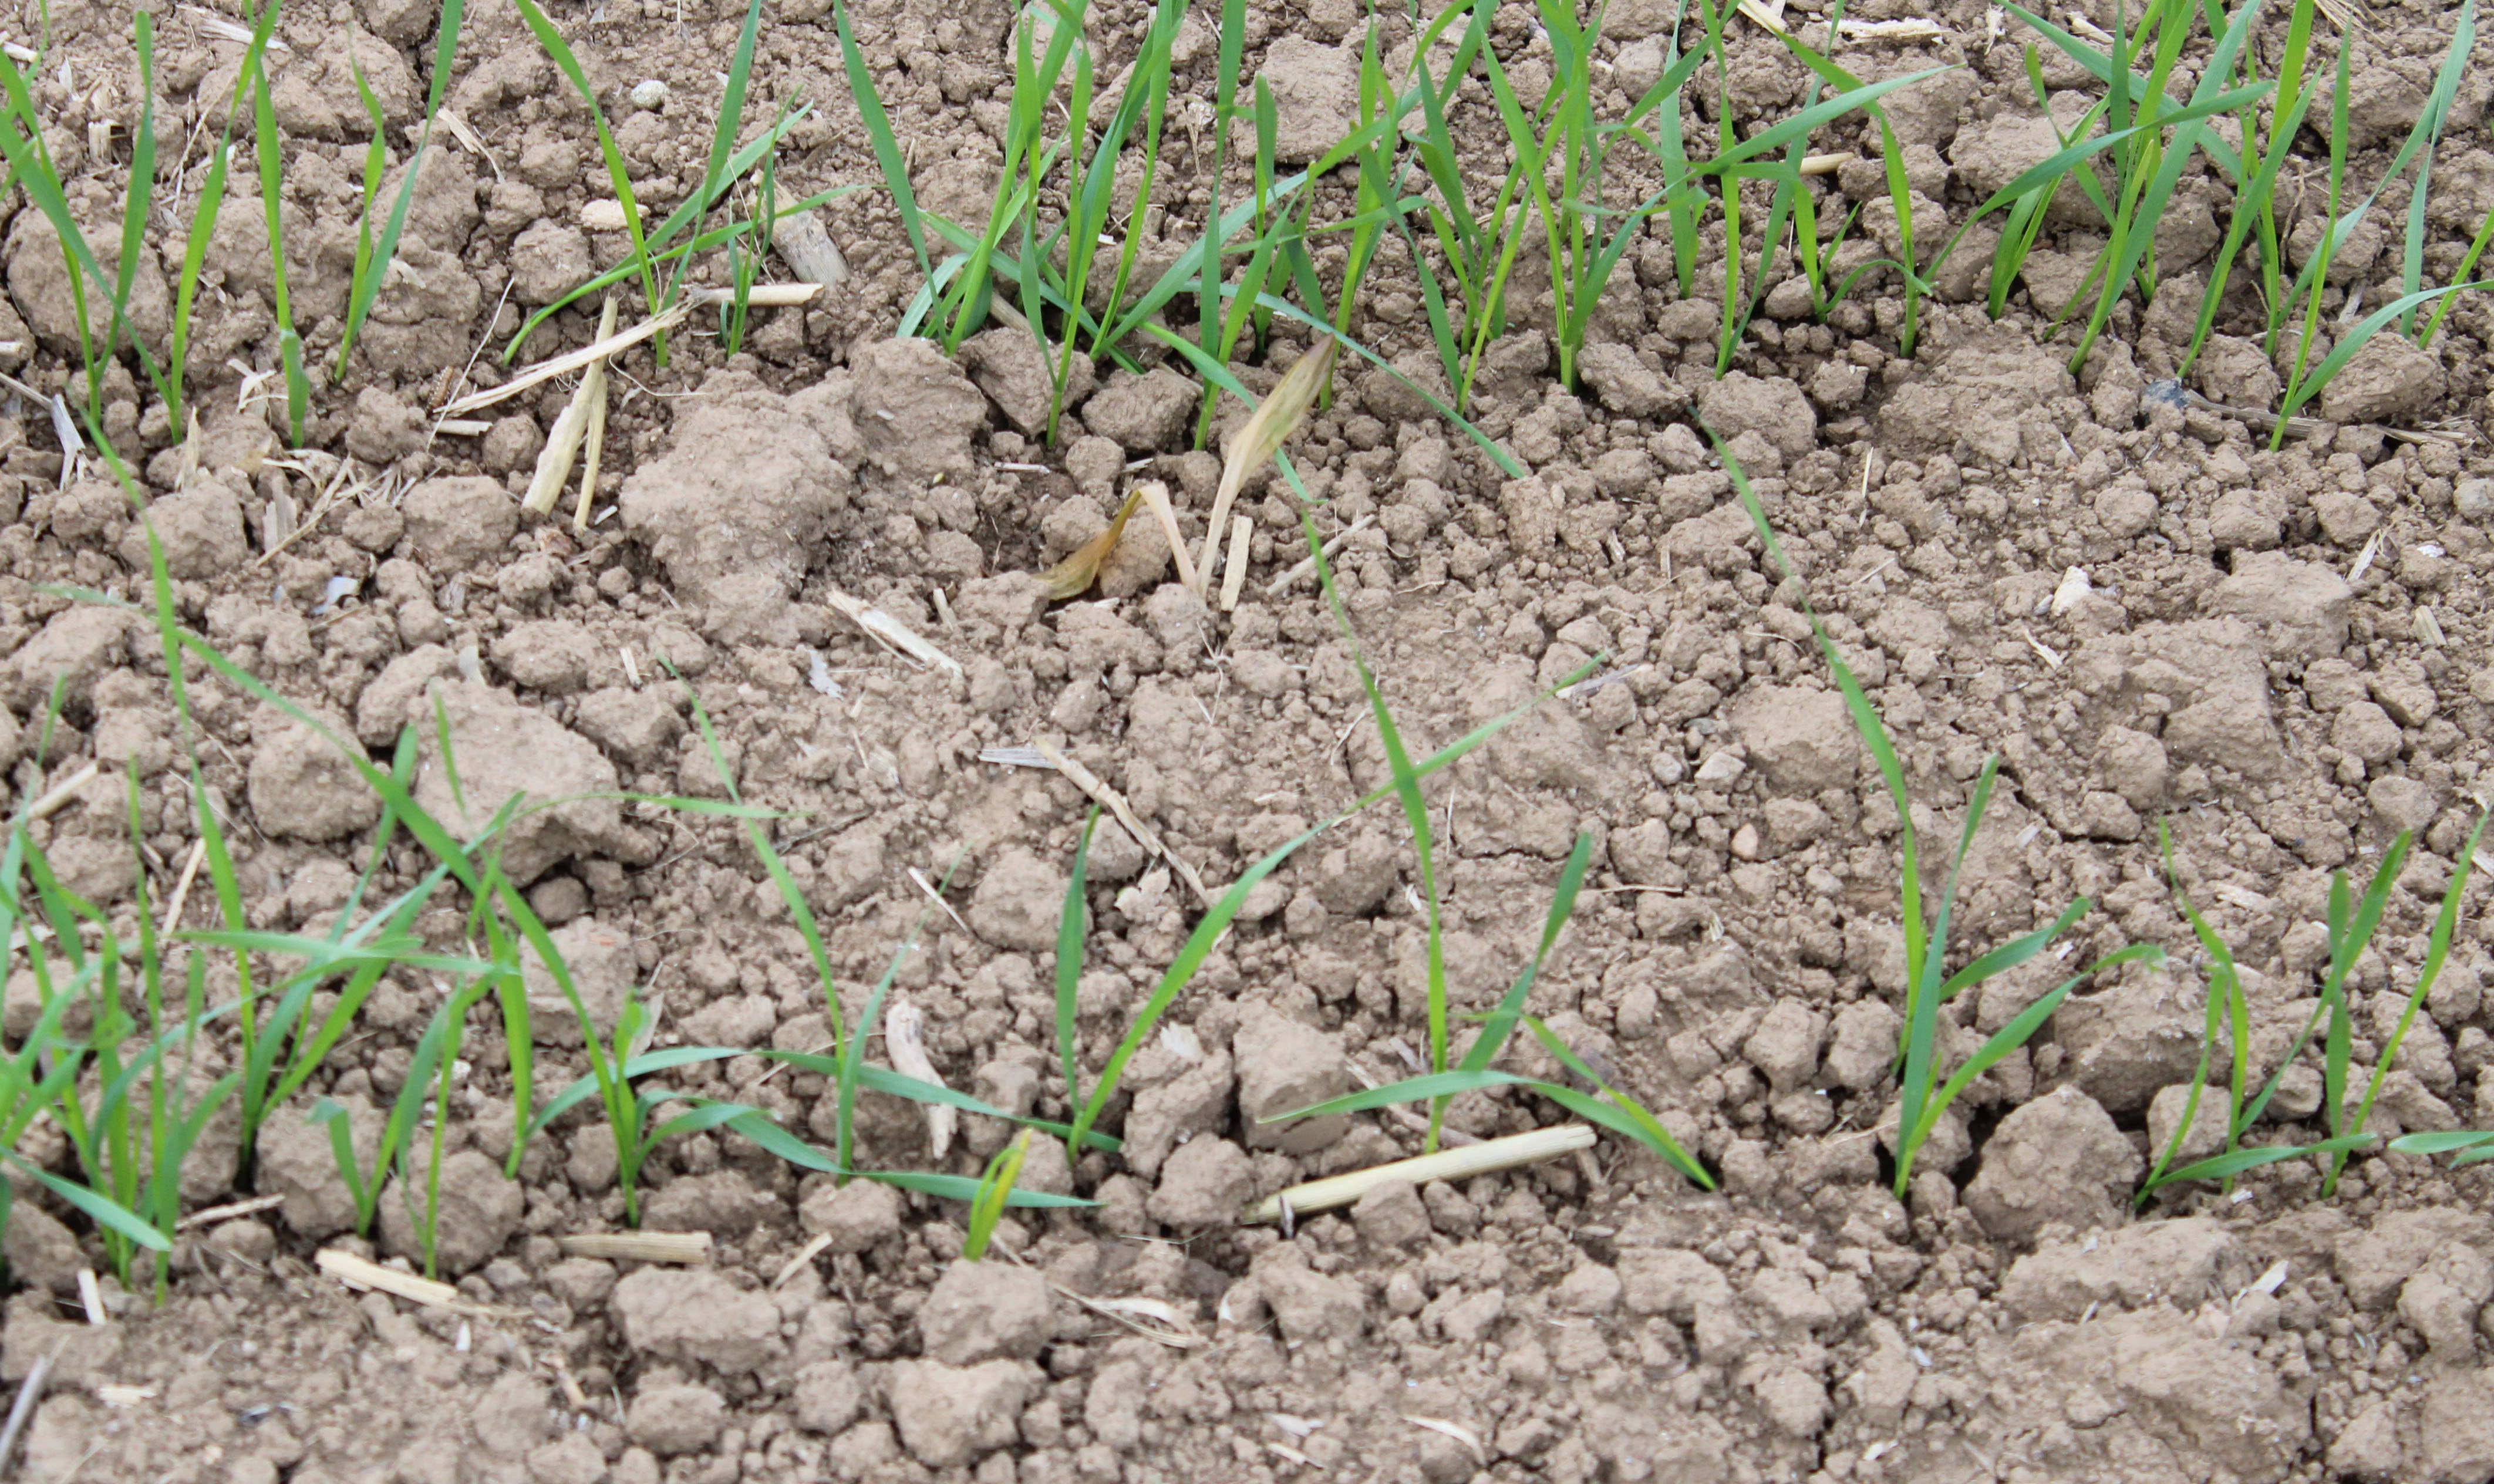wheat: (2125, 1064, 2194, 1223), (1885, 1074, 1954, 1226), (1639, 1095, 1740, 1194), (493, 1028, 553, 1192), (145, 293, 207, 443), (329, 1101, 390, 1249), (263, 297, 320, 450), (601, 1113, 655, 1235), (330, 240, 373, 385), (408, 1148, 452, 1277), (1982, 216, 2024, 329), (2174, 286, 2217, 392), (1040, 350, 1081, 456), (1546, 288, 1583, 401), (2254, 378, 2307, 454), (1719, 270, 1750, 389), (1660, 223, 1704, 307), (1178, 380, 1224, 459), (1892, 291, 1939, 364), (2070, 307, 2111, 385), (2256, 263, 2287, 362), (2040, 277, 2065, 348)
